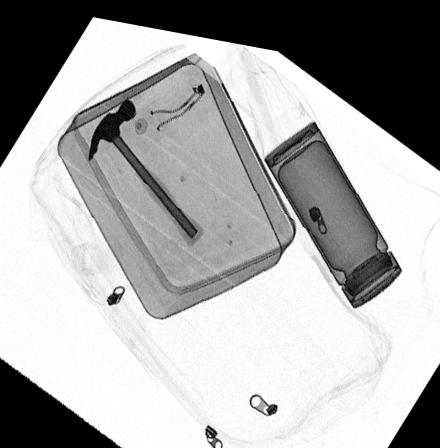Hammer: (88, 94, 204, 239)
